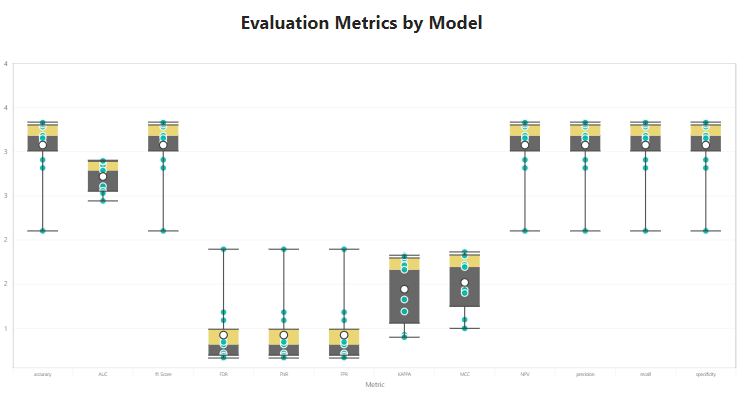

This screenshot's page, from the dashboard's own definition file:
{"tool":"powerbi","page":{"name":"Evaluation Metrics by Model","canvas":[1350,720],"ordinal":5},"visuals":[{"type":"textbox","box":[408.3,21.5,533.4,62.6],"z":0},{"type":"BoxandWhiskerByMAQ1823AD39DT234AB532063E128AX","fields":{"categoryGroup":["result.Metric"],"measure":["Sum(result.Value)"],"category":["result.model"]},"box":[8.2,109.8,1335.6,600.1],"z":1000}]}

Visuals, with their boxes in screenshot pixels (x1, y1, x2, y2), scaled from the page's 1350x720 canvas onto the 737x394 screenshot:
textbox: box(223, 12, 514, 46)
BoxandWhiskerByMAQ1823AD39DT234AB532063E128AX - result.Metric x Sum(result.Value): box(4, 60, 734, 388)
